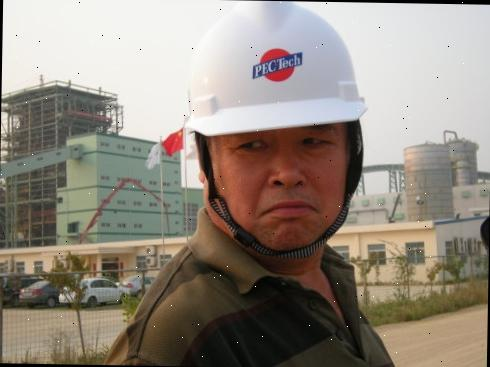helmet: (177, 9, 374, 147)
no_wear: (125, 255, 379, 367)
